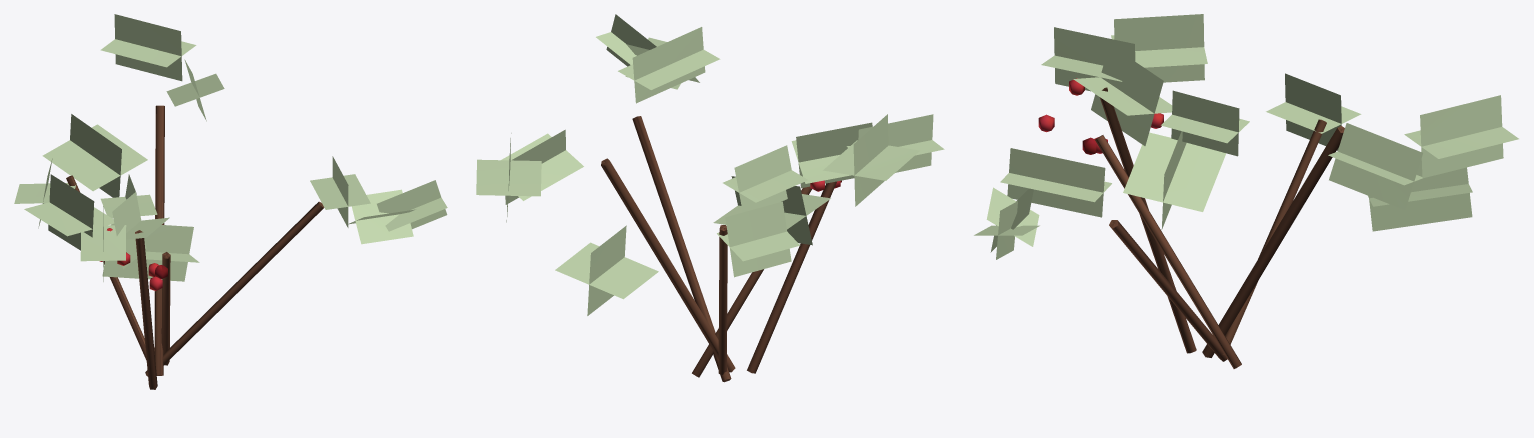
The model's file is mature-lod2.glb.
3 renders of one model, left to right at view 1: azimuth 30°, elevation 25°; view 2: azimuth 150°, elevation 25°; view 3: azimuth 270°, elevation 25°, orthographic. The views are drawn at different scales.
Parts seen in each view (by area): view 1: redberry-leaf-sprays, redberry-buried-stems-ground-blend-and-fruit; view 2: redberry-leaf-sprays, redberry-buried-stems-ground-blend-and-fruit; view 3: redberry-leaf-sprays, redberry-buried-stems-ground-blend-and-fruit.
Part boxes in pixels (box(x1,y1,x2,y2)): redberry-leaf-sprays: box(14, 14, 447, 281); redberry-buried-stems-ground-blend-and-fruit: box(66, 105, 324, 389); redberry-leaf-sprays: box(476, 14, 944, 315); redberry-buried-stems-ground-blend-and-fruit: box(601, 116, 841, 382); redberry-leaf-sprays: box(974, 14, 1518, 259); redberry-buried-stems-ground-blend-and-fruit: box(1038, 78, 1344, 368).
Bounding box in the file's own units: 2.79 × 2.05 × 3.25.
